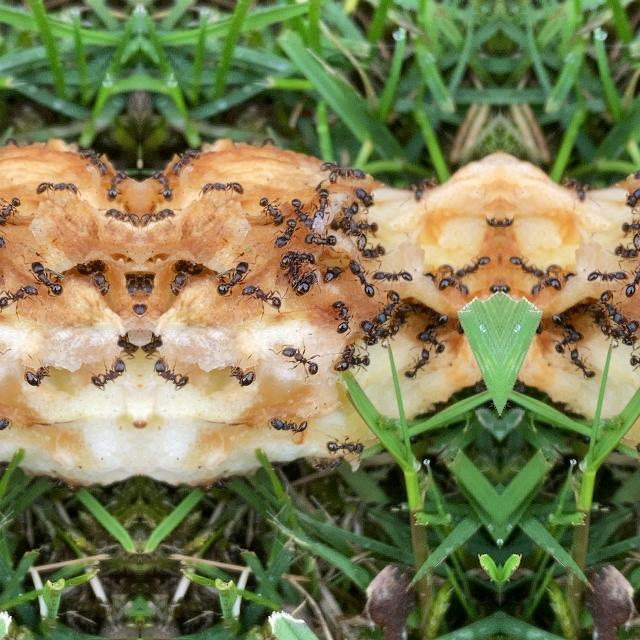Tetramorium: (206, 254, 254, 300), (26, 254, 74, 300), (276, 338, 324, 382), (154, 352, 194, 392), (86, 352, 126, 392), (344, 250, 374, 300), (367, 258, 417, 286), (583, 258, 633, 286), (396, 348, 430, 388), (570, 348, 604, 388), (322, 158, 370, 186), (296, 222, 340, 252), (150, 164, 182, 203), (98, 164, 130, 203), (166, 142, 208, 170), (72, 142, 114, 170), (452, 251, 486, 285), (514, 251, 548, 285), (372, 284, 404, 320), (596, 284, 628, 320), (250, 184, 280, 220), (0, 184, 30, 220), (286, 192, 312, 232), (262, 412, 314, 432), (330, 192, 360, 225), (439, 270, 468, 302), (370, 315, 400, 345), (600, 315, 630, 345), (532, 270, 560, 302), (246, 283, 280, 309), (0, 283, 34, 309), (274, 246, 314, 268), (220, 364, 256, 388), (24, 364, 60, 388), (347, 180, 377, 208), (202, 178, 240, 200), (417, 330, 449, 356), (551, 330, 583, 356), (329, 296, 346, 344), (41, 178, 78, 200), (310, 185, 330, 222), (327, 438, 363, 458), (626, 250, 640, 300), (140, 206, 177, 224), (104, 206, 140, 224), (272, 220, 294, 248), (338, 353, 368, 373), (295, 269, 315, 299), (622, 178, 640, 208), (322, 262, 342, 280), (0, 412, 18, 432), (360, 318, 376, 340), (624, 318, 640, 340), (630, 158, 640, 186), (0, 218, 8, 248), (630, 353, 640, 373)
